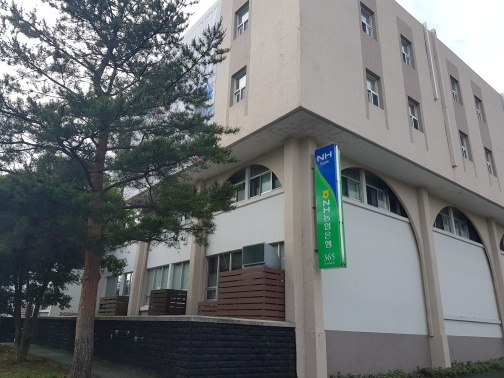Main Building of University: (138, 9, 500, 368), (342, 164, 490, 252), (355, 6, 434, 147), (310, 143, 353, 270)
